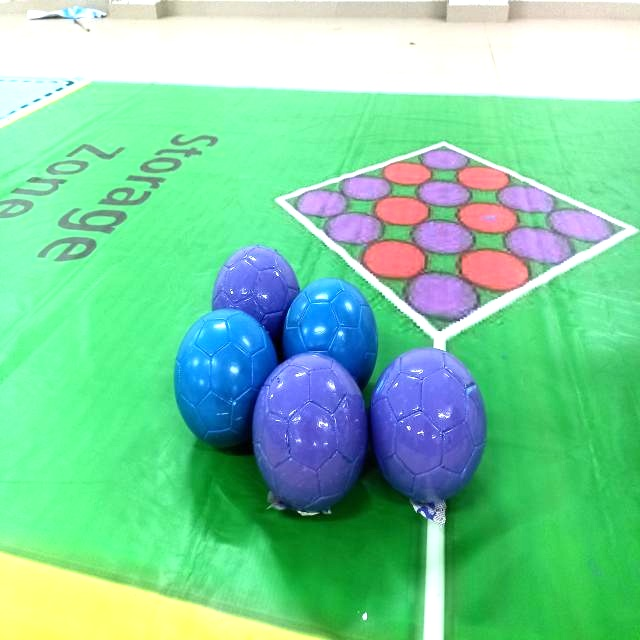blue_ball: (176, 314, 275, 435), (274, 280, 375, 376)
purple_ball: (372, 345, 496, 515), (258, 369, 367, 513), (209, 235, 293, 327)
